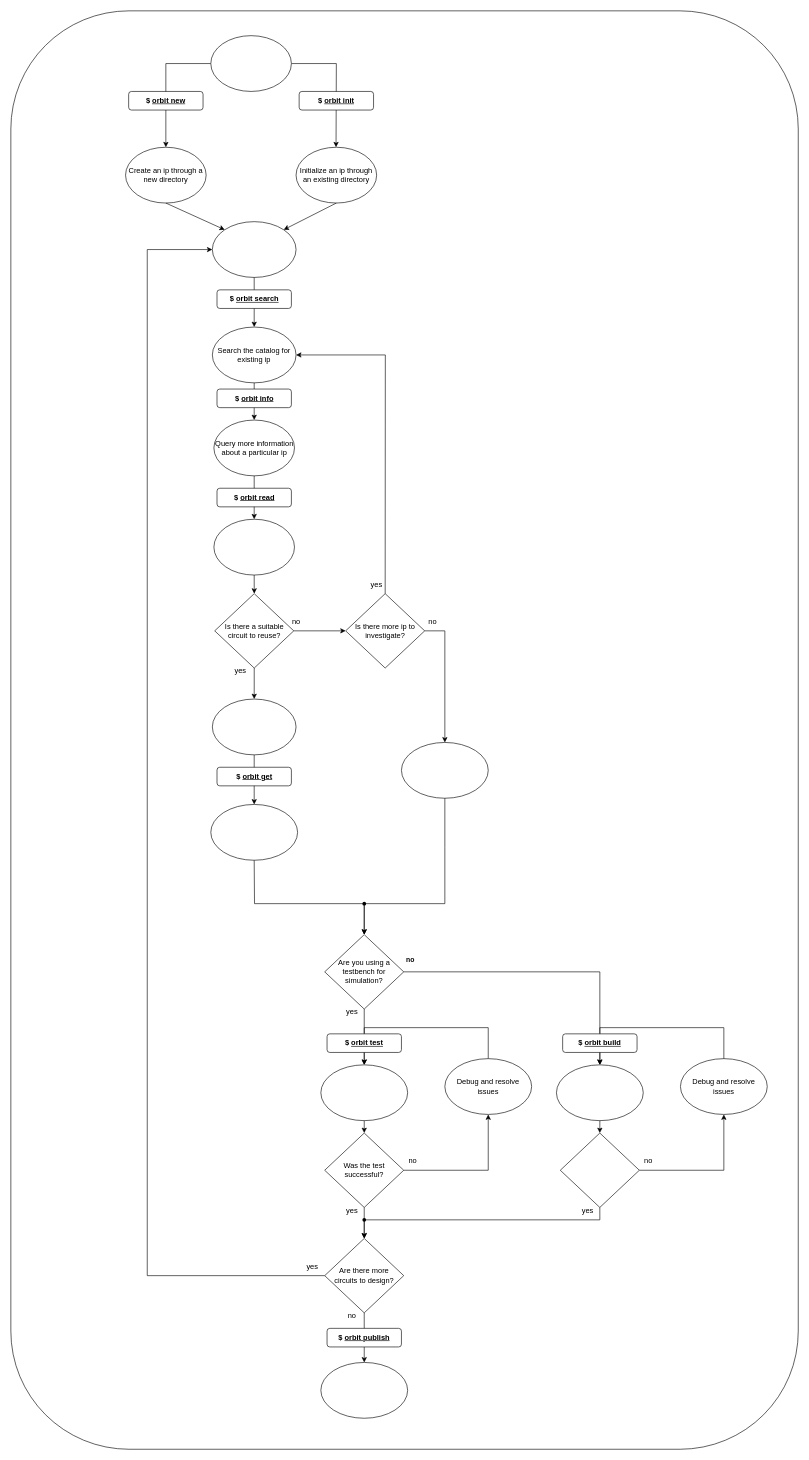
Image size: 809x1460. Some labels were removed from this diagram. Here are the shapes that lost their labels. From the top down, the centre of each, then its label:
At point (250, 63): "Identify a solution to problem that can be described as a circuit".
At point (254, 249): "Identify the next circuit to describe".
At point (253, 547): "Read inline documentation and circuit description".
At point (254, 726): "Add the particular ip as a dependency to the local project's manifest file".
At point (444, 770): "Write new HDL code".
At point (254, 832): "Display HDL code snippet to instantiate the design unit into the current design".
At point (364, 1092): "Test the design (simulation, etc.)".
At point (599, 1092): "Build the design (synthesis, timing analysis, etc.)".
At point (599, 1169): "Was the build successful?".
At point (364, 1390): "Release the ip as a new version".
